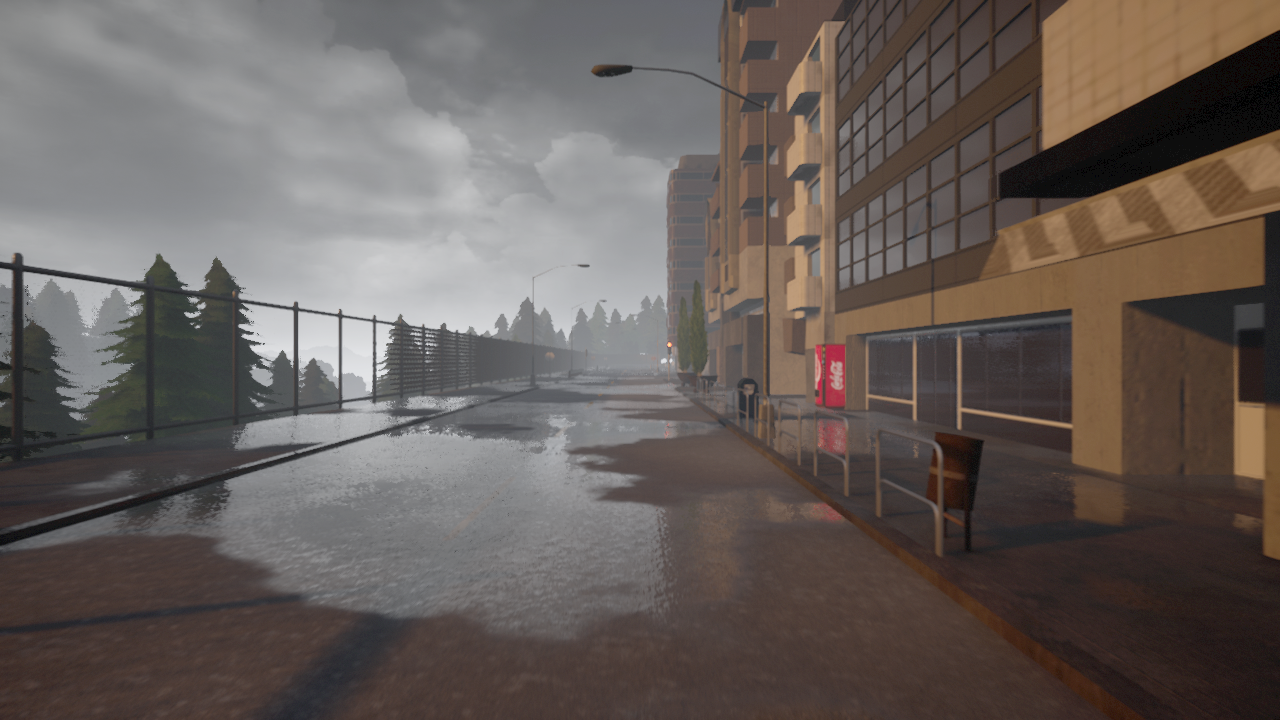red: (666, 340, 672, 355)
